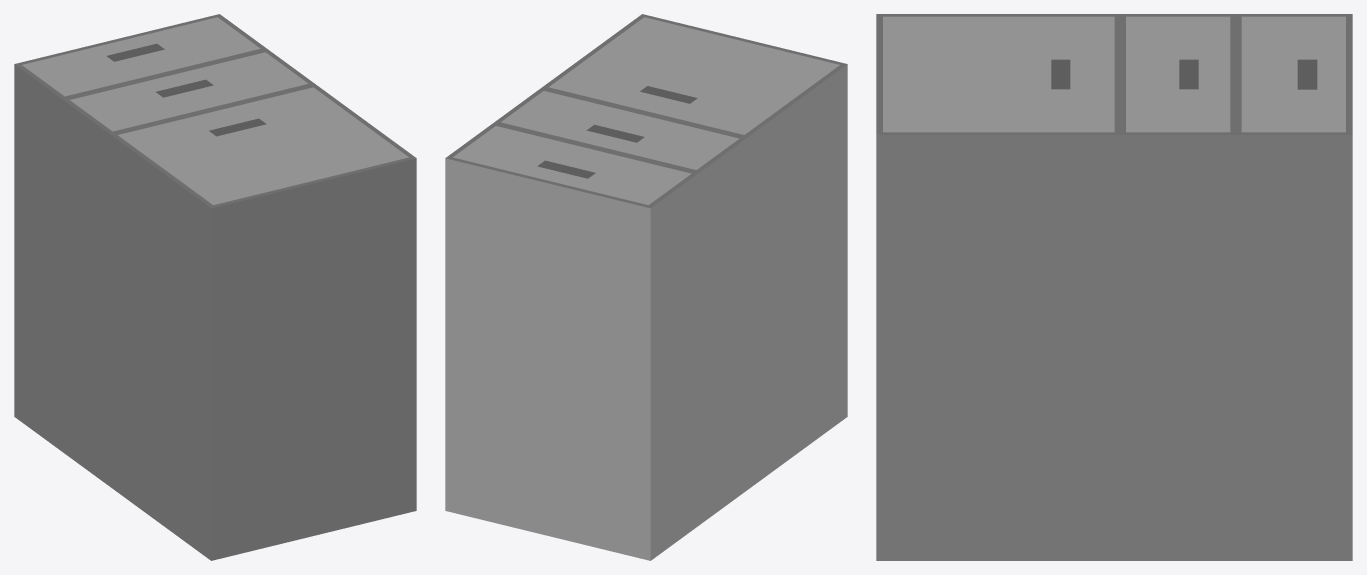
Rendered from FileCabinet.glb.
3 views of the same model, side by side, from view 1: azimuth 30°, elevation 25°; view 2: azimuth 150°, elevation 25°; view 3: azimuth 270°, elevation 25° (orthographic). The views are drawn at different scales.
Parts seen in each view (by area): view 1: SO_FileCabinet_01; view 2: SO_FileCabinet_01; view 3: SO_FileCabinet_01.
Boxes of the visible parts, box(x1,y1,x2,y2) form: SO_FileCabinet_01: box(14, 14, 416, 560); SO_FileCabinet_01: box(445, 14, 847, 560); SO_FileCabinet_01: box(876, 14, 1352, 560).
Size of the model in its own units: 0.7573 by 1.24 by 1.26.
Materials: 1 (1 with a texture image).
